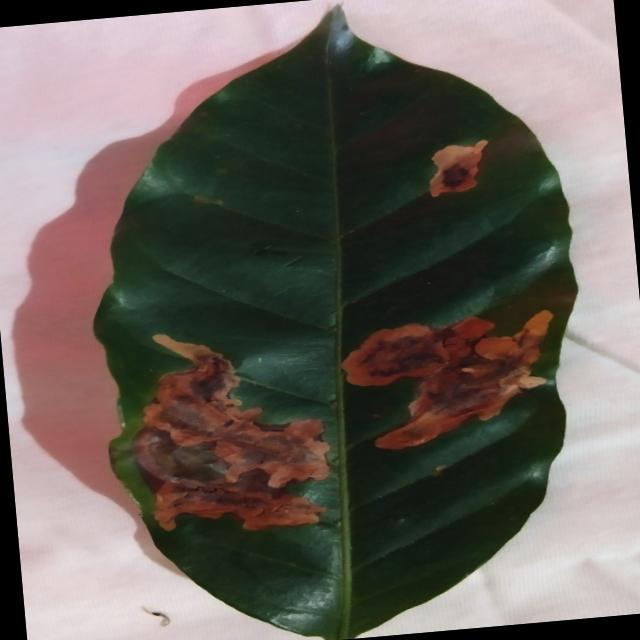KaratDaunKopi: (133, 334, 329, 530), (342, 309, 552, 449), (429, 139, 487, 196)
